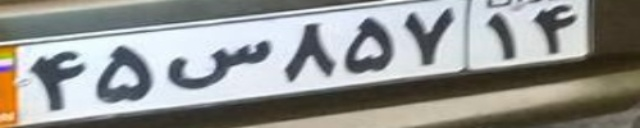1: (484, 11, 516, 59)
4: (31, 50, 84, 110), (532, 4, 582, 54)
5: (94, 44, 154, 103), (343, 16, 393, 74)
7: (400, 7, 456, 66)
8: (283, 23, 336, 82)
sin: (165, 40, 272, 91)
